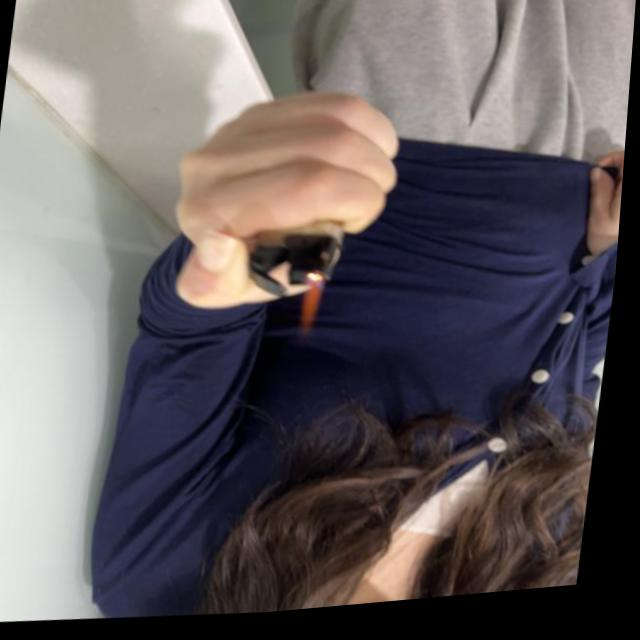Fire: (303, 277, 331, 346)
